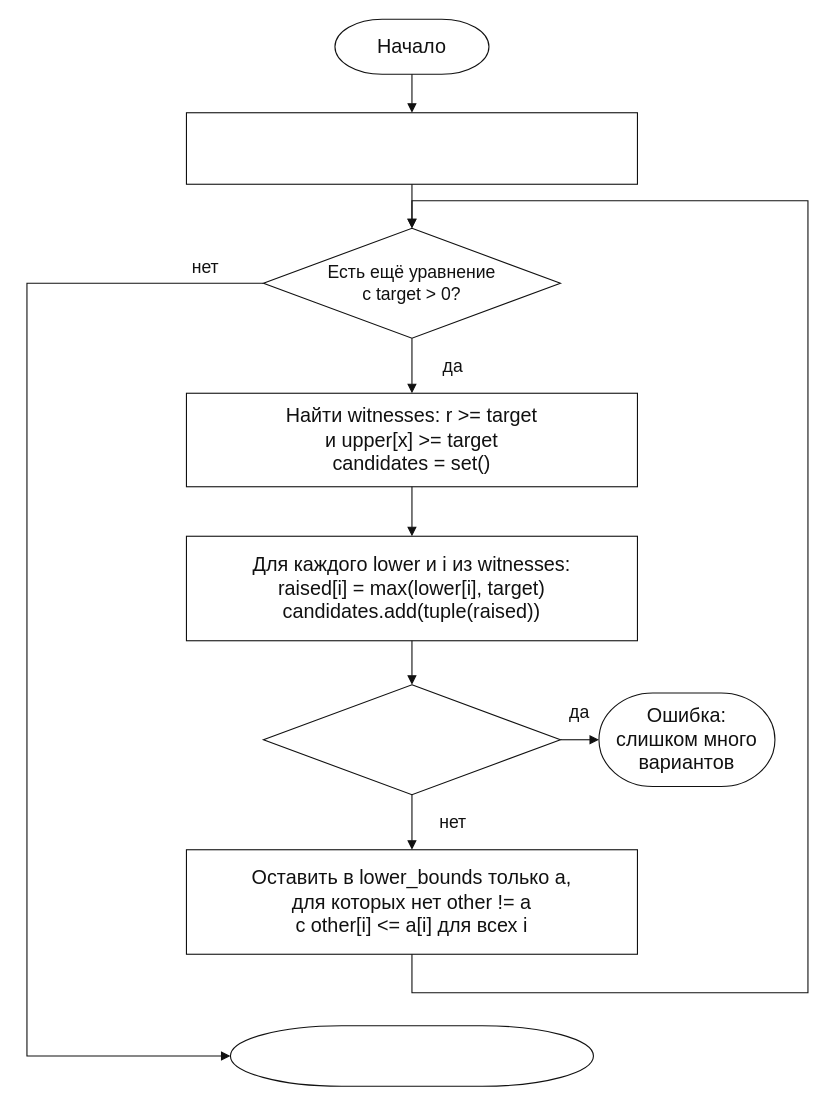
This 836x1106 diagram has some shape labels left out. The shapes that lost their labels are listed below. From the top down, each one's centre as x and y in pixels, then its label:
At (411,148): "names = list(upper) lower_bounds = {(0.0, ..., 0.0)}".
At (411,739): "Вариантов > 10 000?".
At (411,1055): "return sorted(lower_bounds)".
